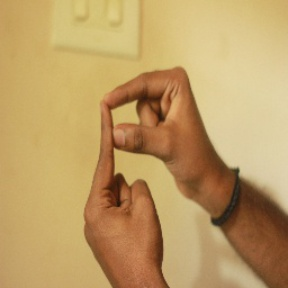P: (81, 66, 196, 229)
